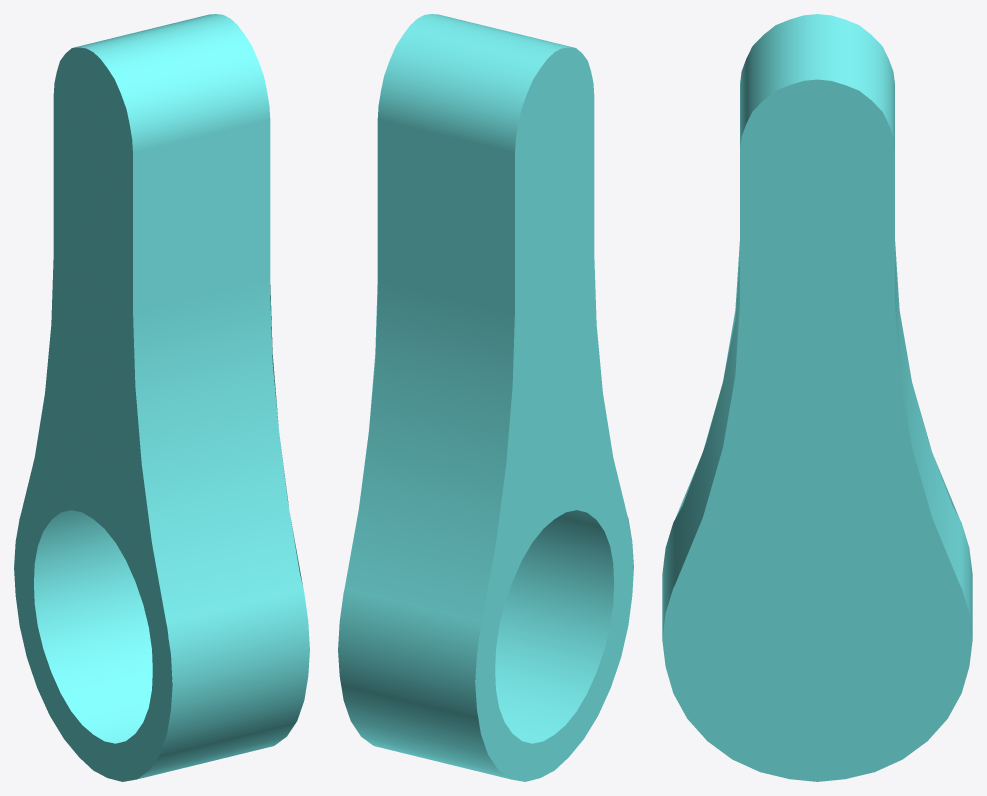
File: testerMark.obj
3 views of the same model, side by side, from view 1: azimuth 30°, elevation 25°; view 2: azimuth 150°, elevation 25°; view 3: azimuth 270°, elevation 25° (orthographic). The views are drawn at different scales.
Parts seen in each view (by area): view 1: NONE_DC_Shell; view 2: NONE_DC_Shell; view 3: NONE_DC_Shell.
Part boxes in pixels (box(x1,y1,x2,y2)): NONE_DC_Shell: box(14, 14, 309, 781); NONE_DC_Shell: box(338, 14, 633, 781); NONE_DC_Shell: box(662, 14, 972, 781).
Size of the model in its own units: 1 by 5 by 2.
